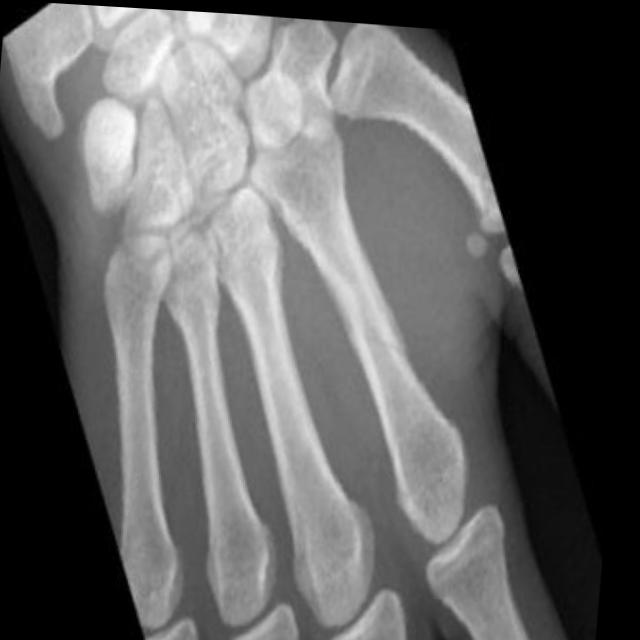fracture: (348, 303, 431, 374)
